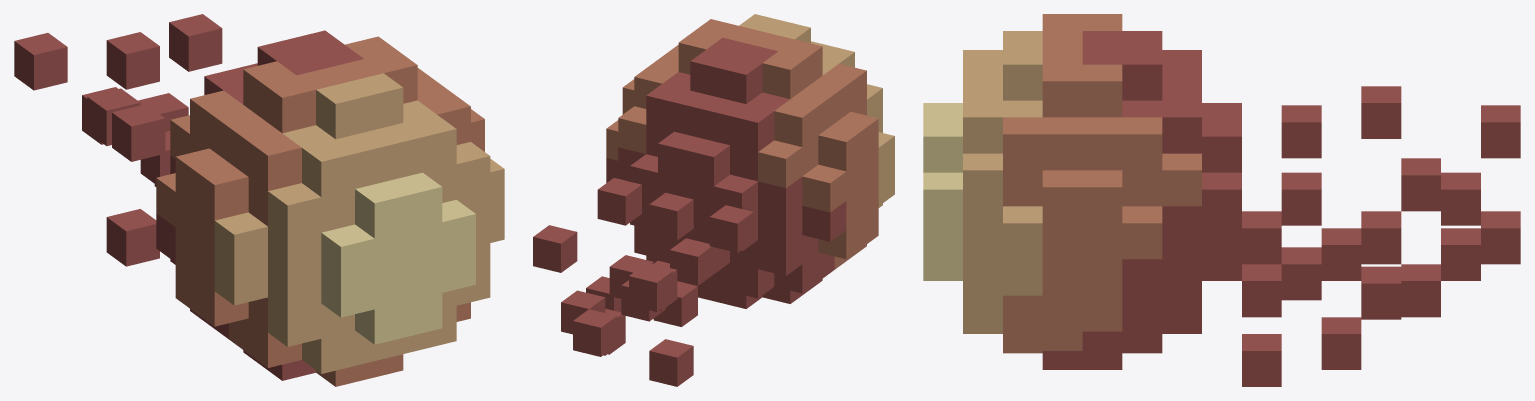
Rendered from BolaFuego-4.obj.
3 views of the same model, side by side, from view 1: azimuth 30°, elevation 25°; view 2: azimuth 150°, elevation 25°; view 3: azimuth 270°, elevation 25° (orthographic). The views are drawn at different scales.
Bounding box in the file's own units: 0.8 × 0.8 × 1.5.
